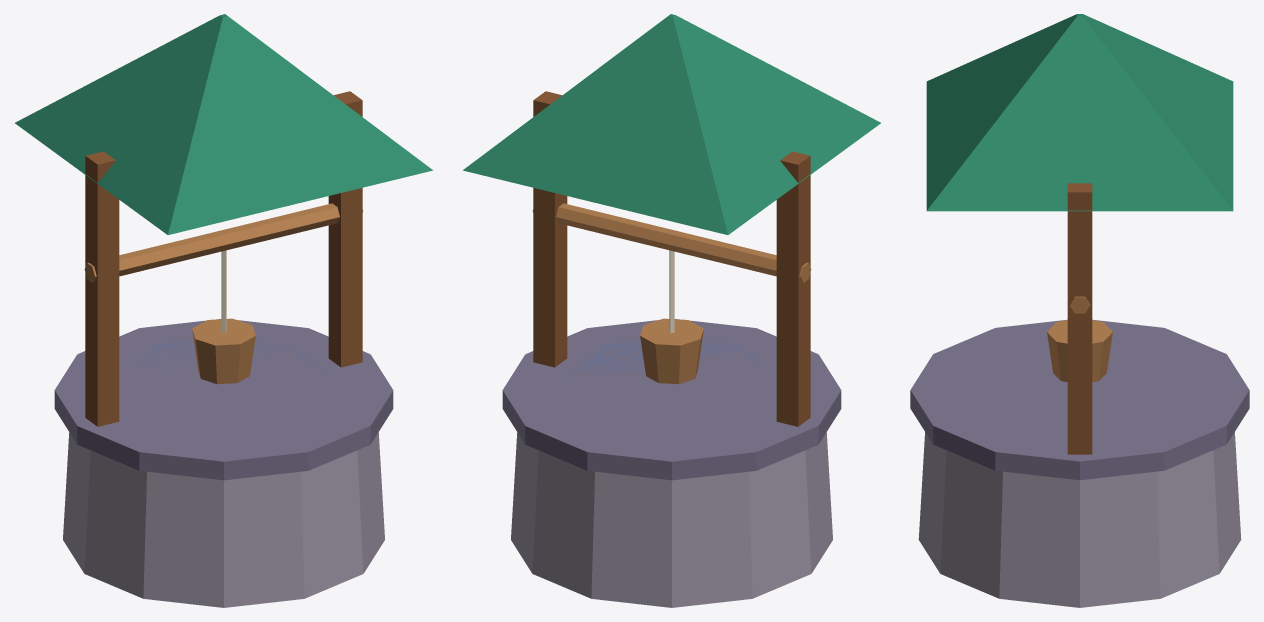
File: well.glb
3 renders of one model, left to right at view 1: azimuth 30°, elevation 25°; view 2: azimuth 150°, elevation 25°; view 3: azimuth 270°, elevation 25°, orthographic.
Visible parts, largest first — view 1: well; view 2: well; view 3: well.
Part boxes in pixels (x1,y1,x2,y2): well: [15, 14, 432, 607]; well: [463, 14, 880, 607]; well: [910, 14, 1249, 607].
Bounding box in the file's own units: 1.64 × 2.8 × 1.64.
